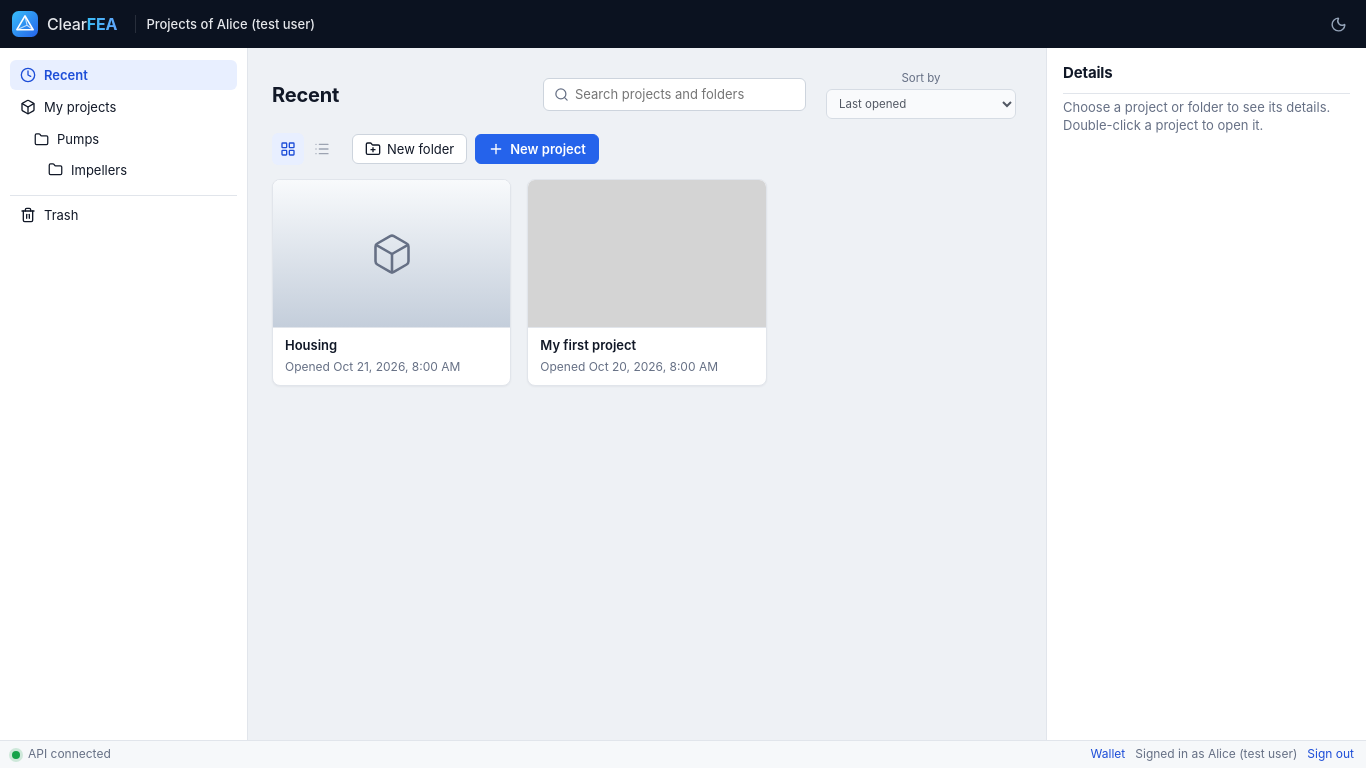
Test: the projects home › opens on Recent, with thumbnails, and on My projects with the folder tree
The image size is (1366, 768).
What coordinates should you click on to do the following:
click the button "My projects"
I would click on:
 (124, 107)
Its box is left=10, top=92, right=237, bottom=122.
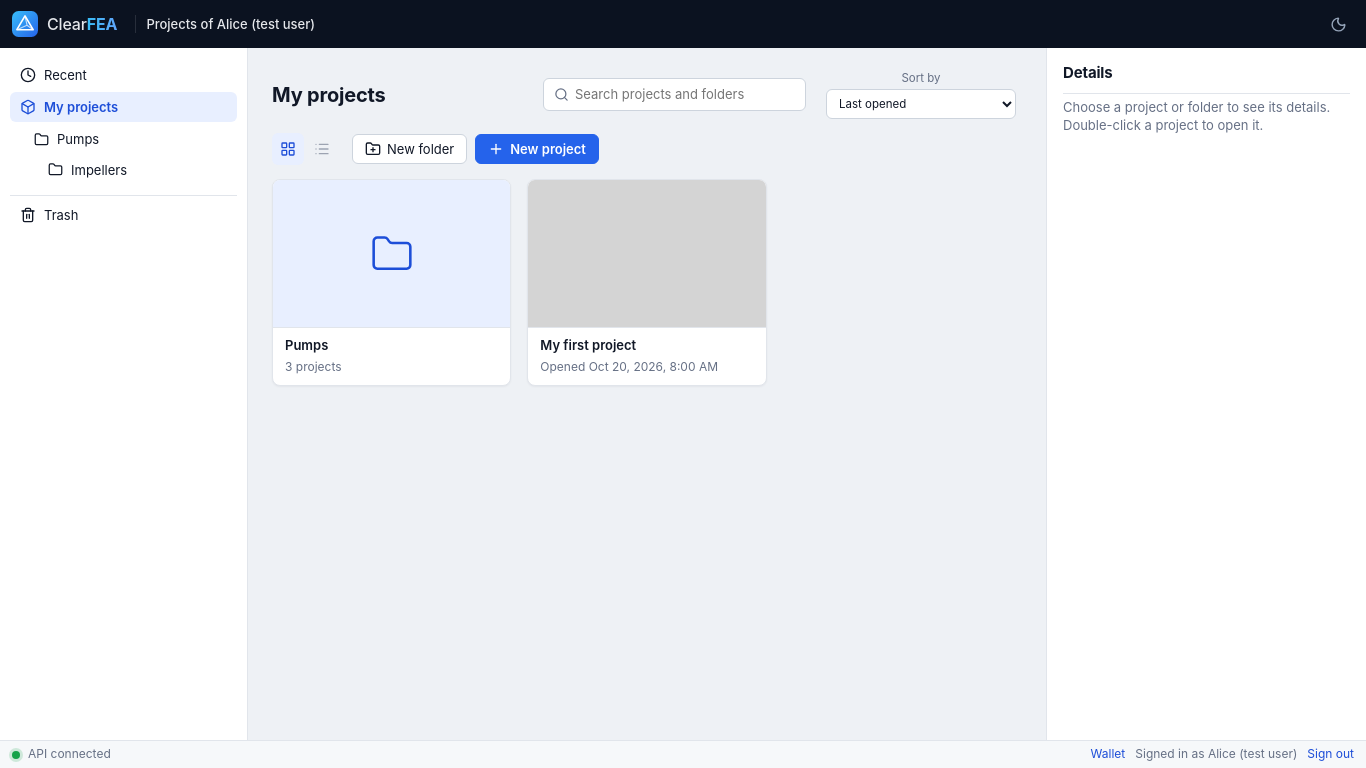
Now the heading "My projects" is shown, box left=272, top=80, right=385, bottom=108
Now the text "3 projects" is shown, box left=285, top=359, right=342, bottom=374
What coordinates should you click on to do the following:
click the button "Impellers"
I would click on:
 (124, 170)
Its box is left=10, top=155, right=237, bottom=185.
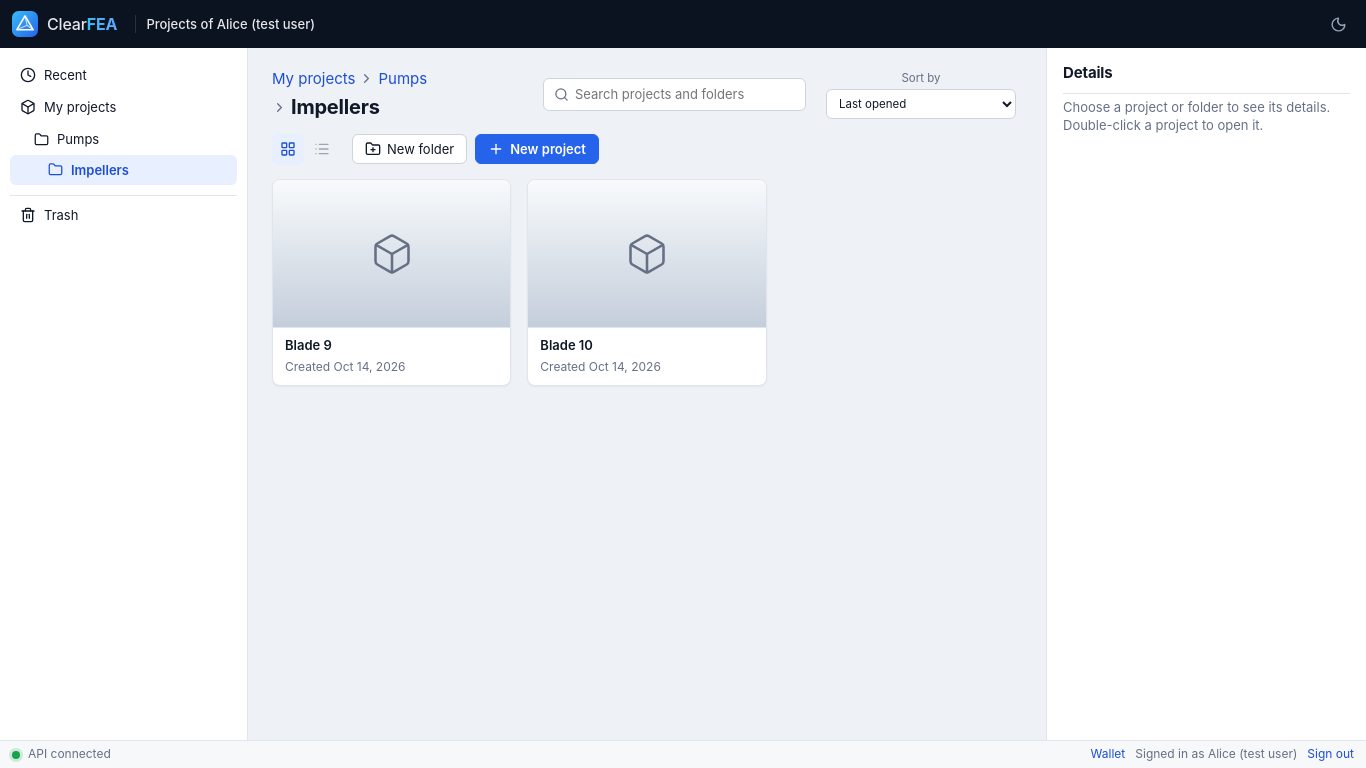
Now the navigation bar named "Folder path" reads "My projects Pumps Impellers", box left=272, top=68, right=427, bottom=119
Now the text "Blade 9" is shown, box left=285, top=337, right=332, bottom=353
